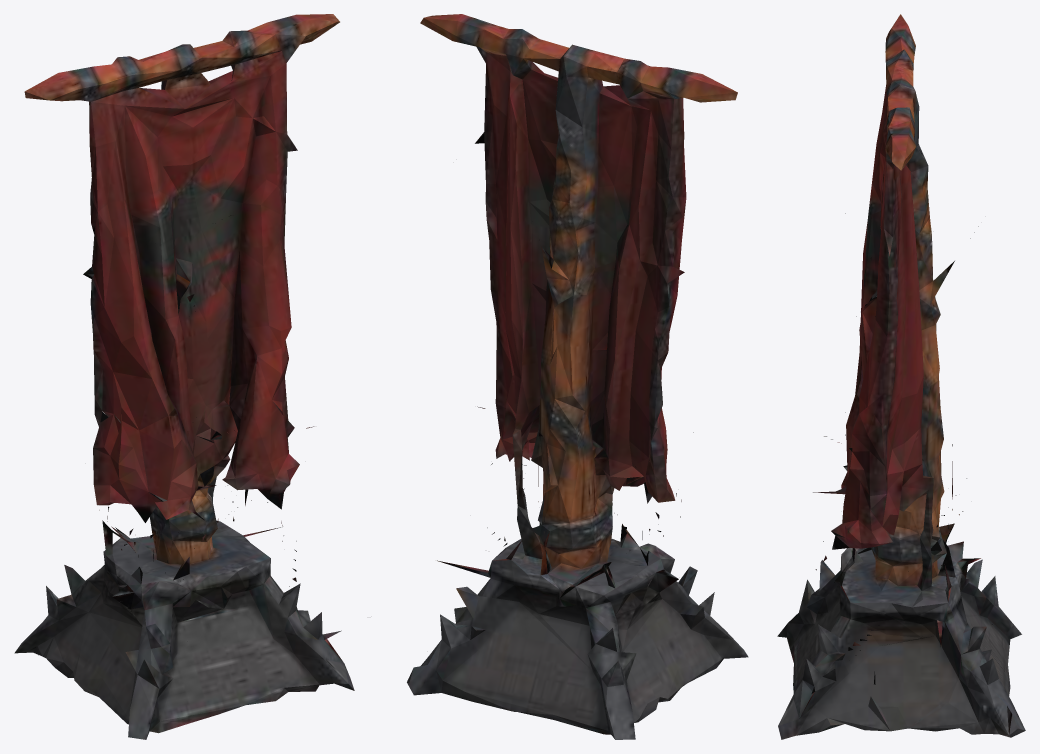
File: banner_stand_spiked_base_lod0.glb
The picture shows the model from 3 angles, left to right: view 1: azimuth 30°, elevation 25°; view 2: azimuth 150°, elevation 25°; view 3: azimuth 270°, elevation 25°; orthographic projection. The views are drawn at different scales.
Parts seen in each view (by area): view 1: banner_stand_spiked_base_lod0; view 2: banner_stand_spiked_base_lod0; view 3: banner_stand_spiked_base_lod0.
Boxes of the visible parts, box(x1,y1,x2,y2) form: banner_stand_spiked_base_lod0: box(14, 14, 354, 739); banner_stand_spiked_base_lod0: box(407, 14, 748, 739); banner_stand_spiked_base_lod0: box(777, 14, 1025, 739).
Size of the model in its own units: 1.86 by 3.55 by 1.31.
1 material, 1 textured.
